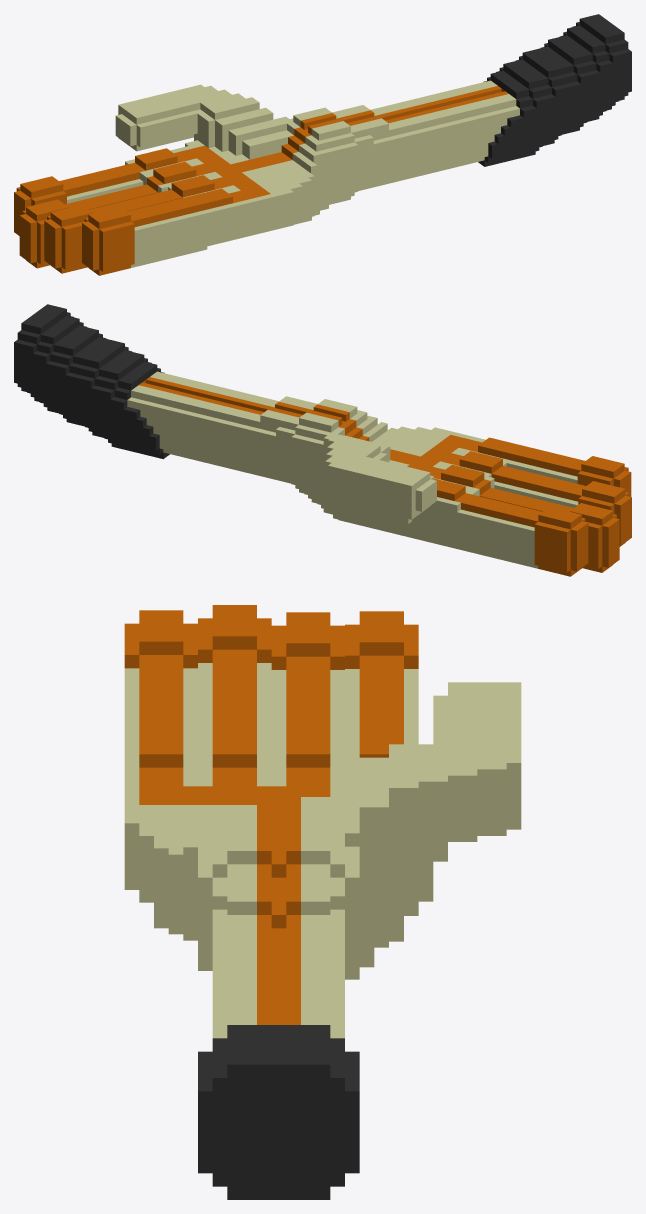
Rendered from Shotgun.obj.
3 renders of one model, top to bottom at view 1: azimuth 30°, elevation 25°; view 2: azimuth 150°, elevation 25°; view 3: azimuth 270°, elevation 25°, orthographic. The views are drawn at different scales.
Bounding box in the file's own units: 9.1 × 1.6 × 2.7.
1 material, 1 textured.
